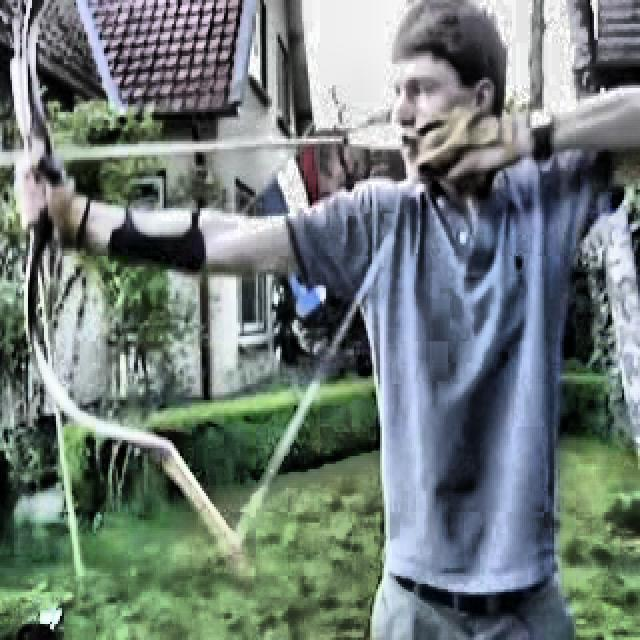P: (20, 6, 629, 633)
